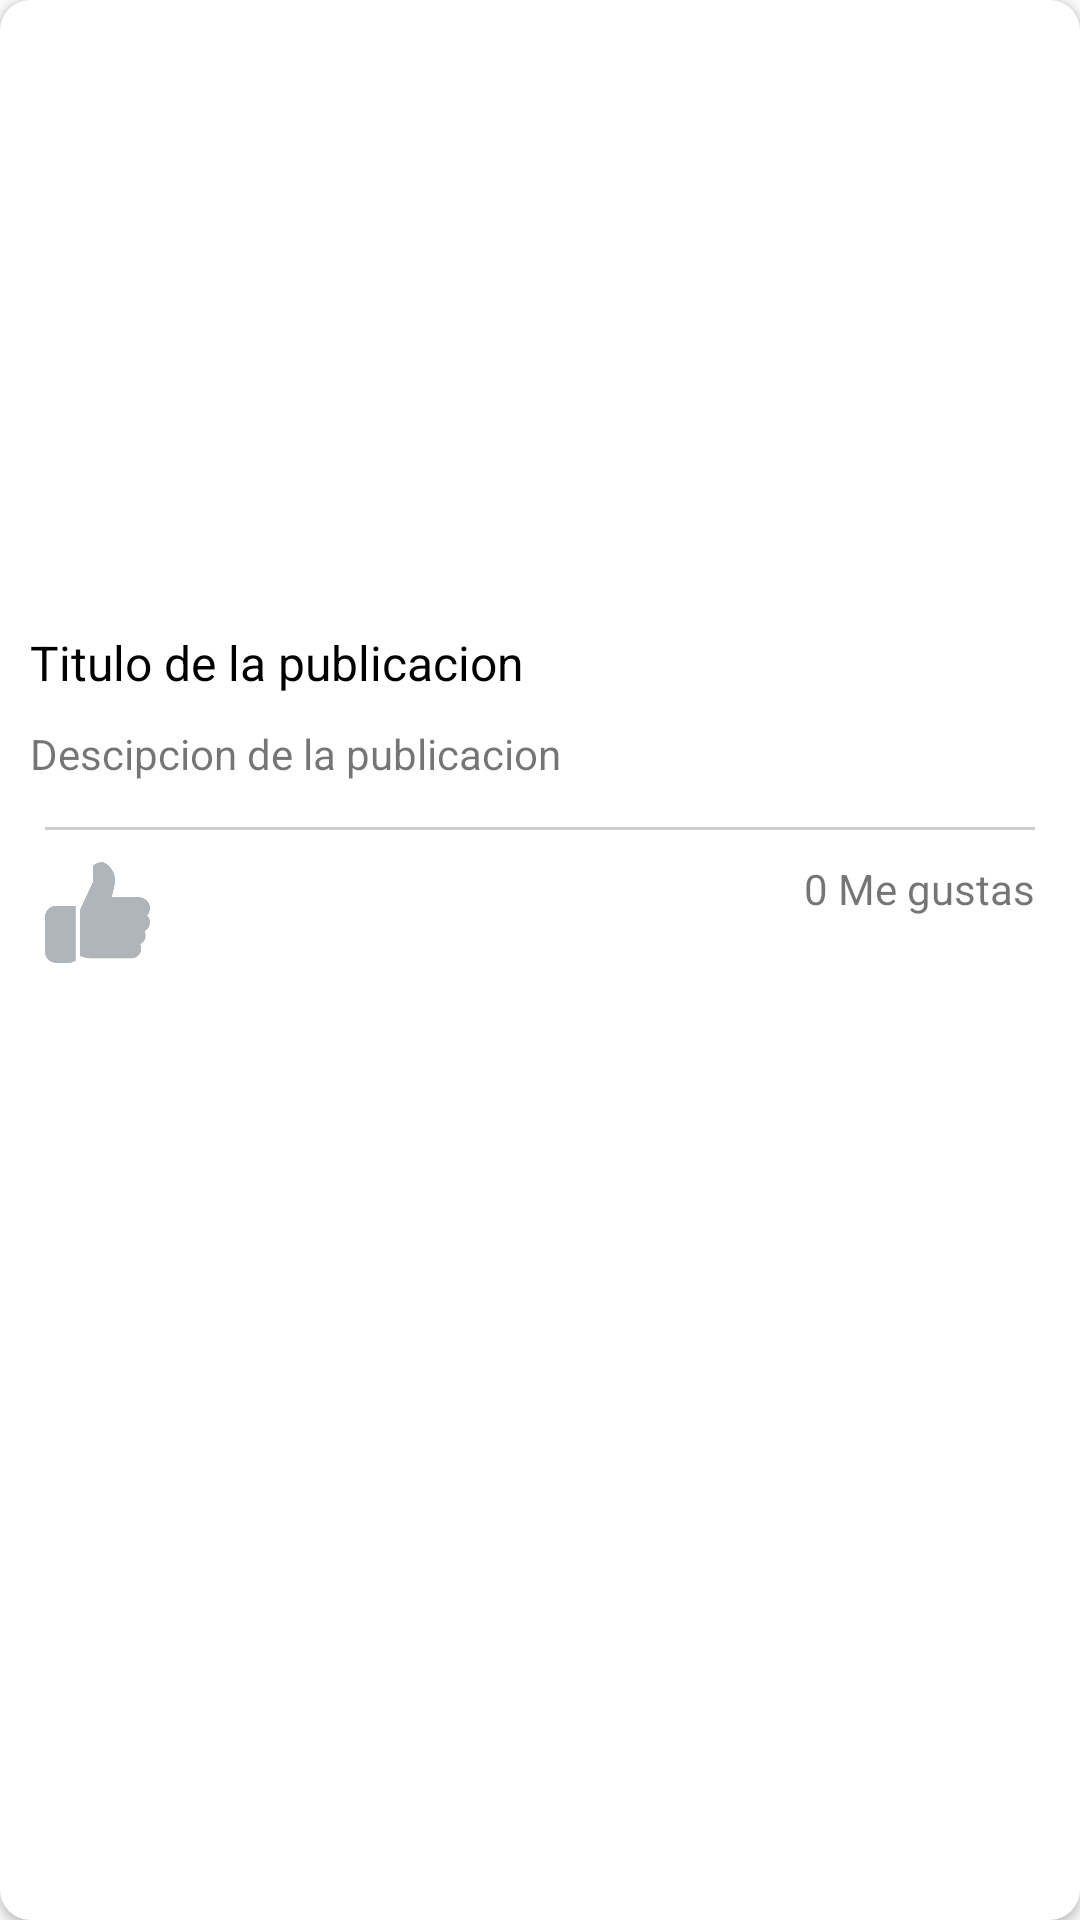

Icons on this 1080 x 1920 Android screen, each with the point to tap as [x,y]:
me gustagris: [97,912]
